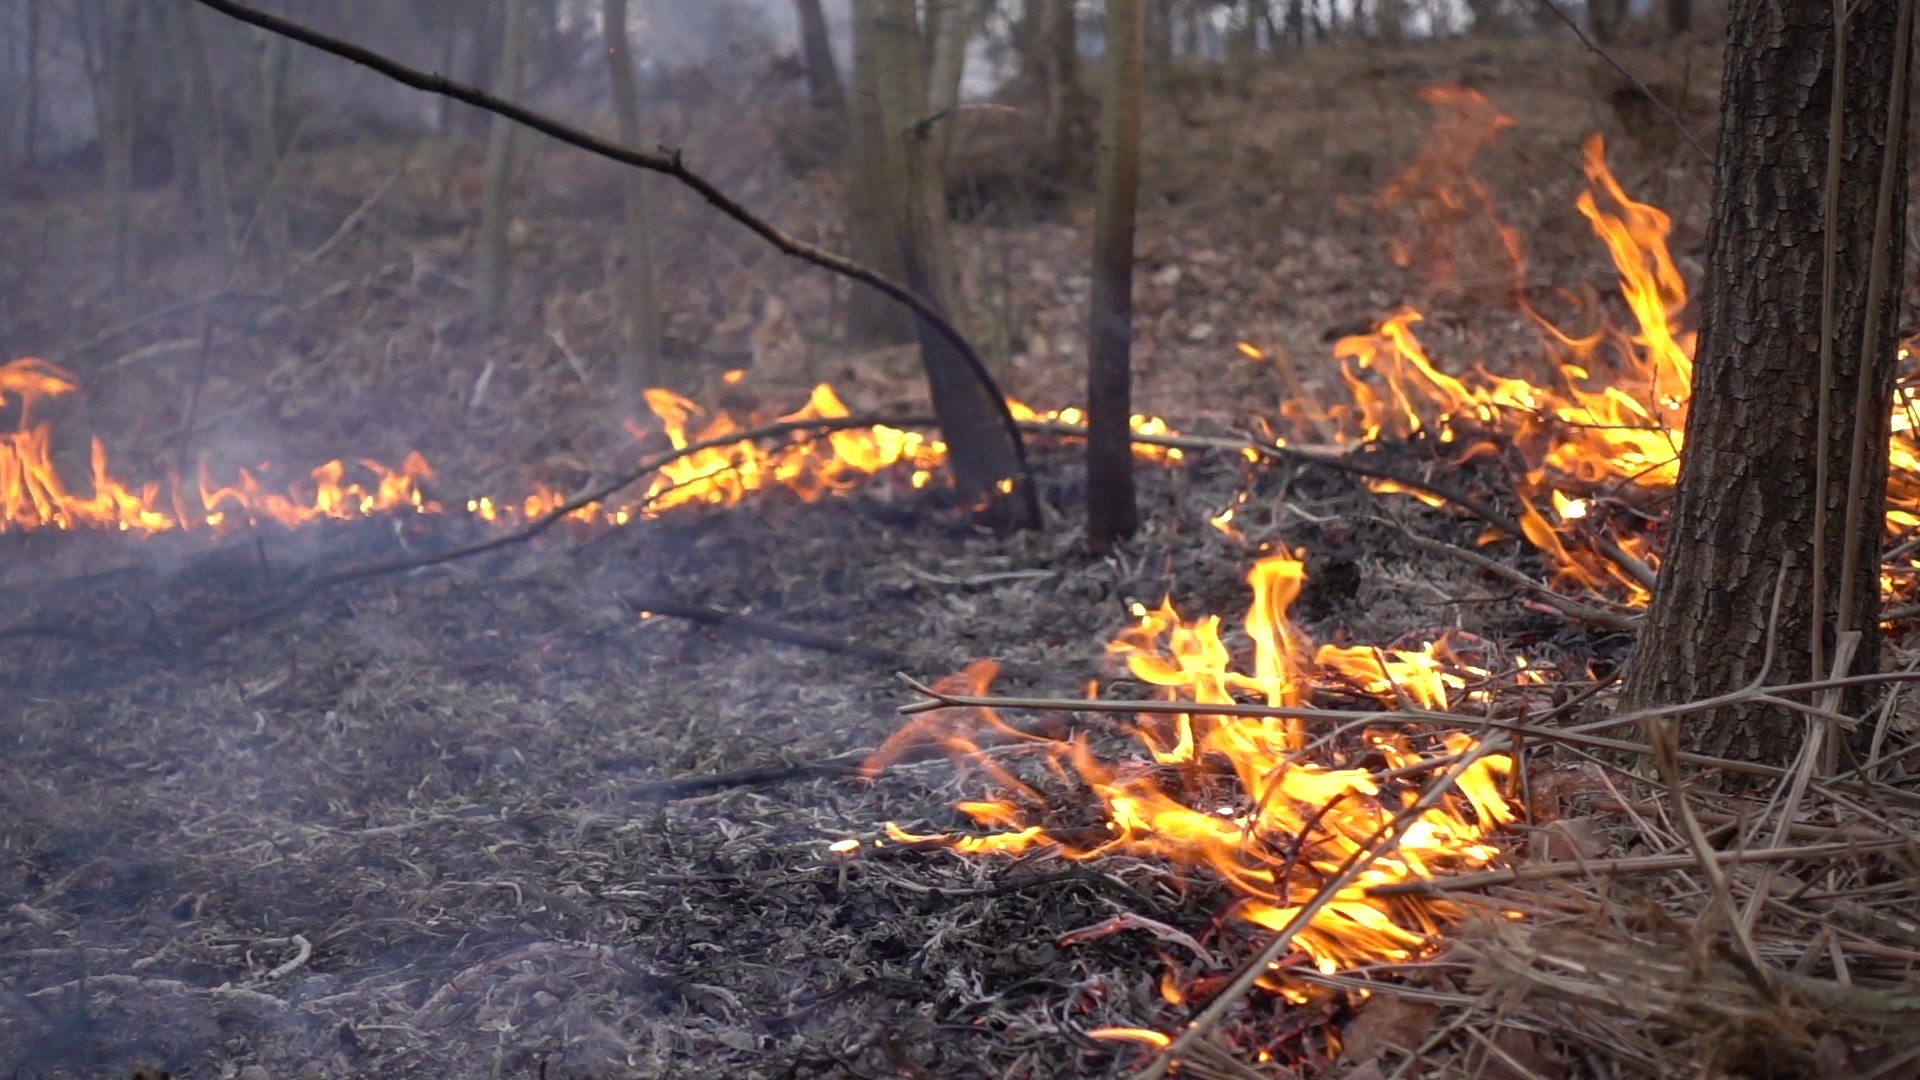fire: (953, 563, 1518, 982), (1299, 142, 1698, 518), (1, 438, 433, 535), (632, 382, 940, 506), (1884, 384, 1920, 574), (1129, 410, 1174, 458)
